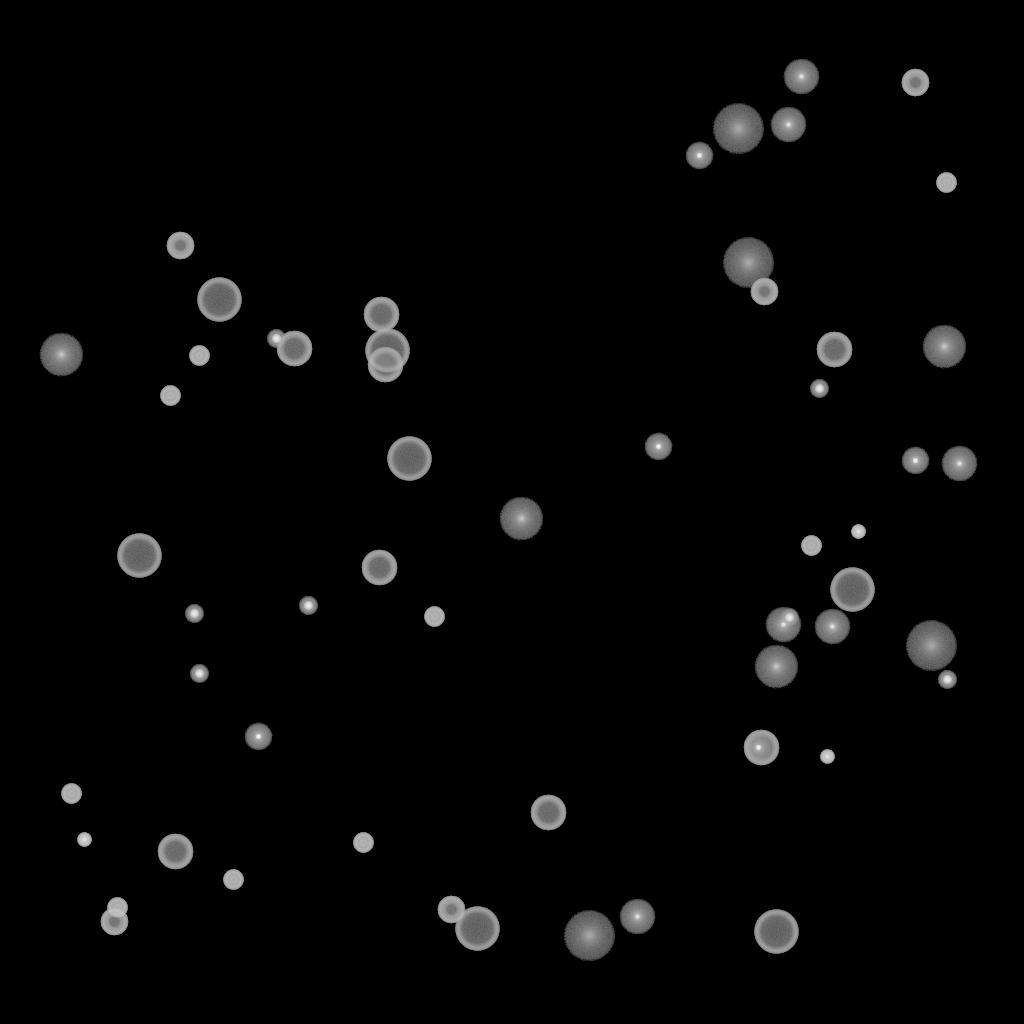depth:-10: (685, 142, 713, 170), (744, 734, 772, 762), (244, 723, 272, 751), (901, 447, 929, 475), (644, 433, 672, 461)
depth:-20: (190, 665, 208, 683), (780, 609, 798, 627), (299, 597, 317, 615), (938, 671, 956, 689), (810, 380, 828, 398), (267, 330, 285, 348), (185, 605, 203, 623)
depth:-30: (77, 833, 91, 847), (820, 750, 834, 764), (851, 525, 865, 539)
depth:-40: (107, 898, 127, 918), (189, 346, 209, 366), (61, 784, 81, 804), (353, 833, 373, 853), (424, 607, 444, 627), (936, 173, 956, 193), (160, 386, 180, 406), (801, 536, 821, 556), (223, 870, 243, 890)
depth:-50: (901, 69, 929, 97), (437, 896, 465, 924), (166, 232, 194, 260), (750, 278, 778, 306), (100, 908, 128, 936)
depth:-60: (157, 834, 193, 870), (367, 347, 403, 383), (530, 795, 566, 831), (816, 332, 852, 368), (276, 331, 312, 367), (743, 730, 779, 766), (361, 550, 397, 586), (363, 297, 399, 333)
depth:-70: (117, 534, 161, 578), (365, 329, 409, 373), (754, 910, 798, 954), (387, 437, 431, 481), (455, 907, 499, 951), (830, 568, 874, 612), (197, 278, 241, 322)
depth:0: (765, 607, 801, 643), (941, 446, 977, 482), (783, 59, 819, 95), (770, 107, 806, 143), (619, 899, 655, 935), (814, 609, 850, 645)
depth:10: (754, 645, 798, 689), (39, 333, 83, 377), (499, 497, 543, 541), (922, 325, 966, 369)
depth:20: (722, 238, 774, 288), (712, 104, 764, 154), (905, 621, 957, 671), (563, 911, 615, 961)
